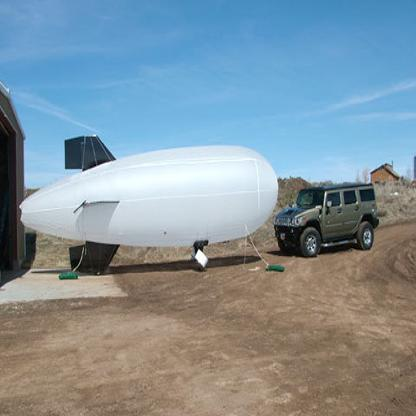Airship: (16, 135, 283, 268)
